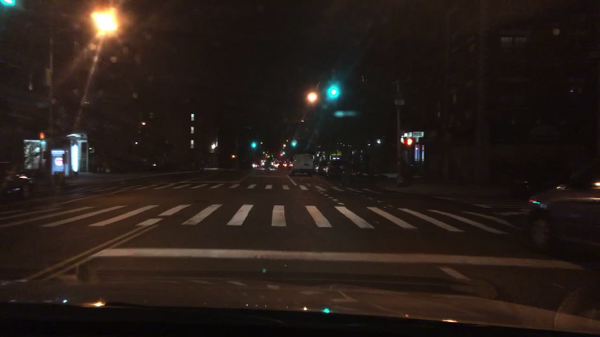bike: (340, 166, 354, 191)
car: (522, 153, 599, 255), (510, 163, 564, 205), (0, 160, 34, 200), (289, 152, 314, 176), (322, 158, 344, 179), (261, 157, 278, 169), (315, 159, 327, 175)
person: (398, 154, 411, 187), (92, 151, 102, 175), (199, 156, 206, 171)
rider: (340, 157, 353, 176)
traffic light: (330, 82, 337, 101), (39, 132, 47, 144), (2, 1, 15, 7), (405, 138, 413, 147), (399, 136, 405, 147), (251, 139, 256, 149), (291, 139, 296, 148), (231, 154, 236, 159), (280, 150, 283, 157)
traffic sign: (394, 94, 404, 106), (37, 100, 49, 109)
